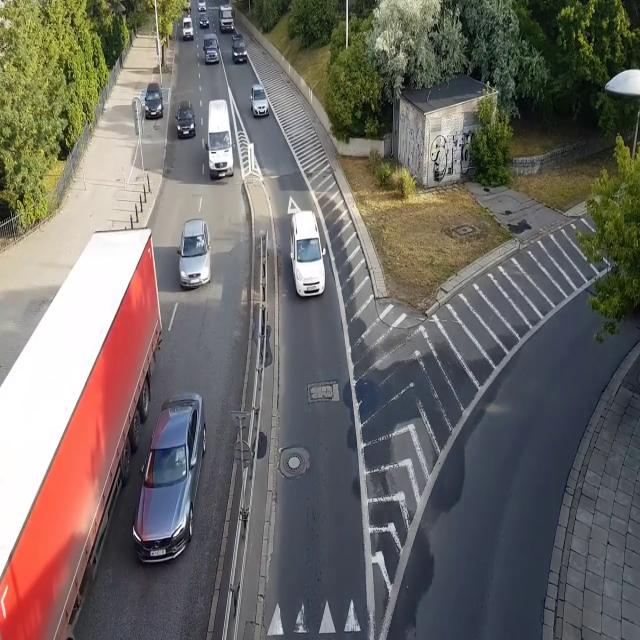car: (131, 394, 208, 566), (177, 217, 212, 289), (174, 97, 197, 141), (249, 82, 270, 120), (144, 82, 164, 118), (198, 12, 211, 28), (197, 0, 208, 12)
truck: (0, 230, 163, 638), (218, 4, 235, 32)
van: (289, 211, 326, 298), (204, 99, 236, 180), (202, 33, 220, 66), (231, 34, 248, 64), (182, 18, 194, 42)
